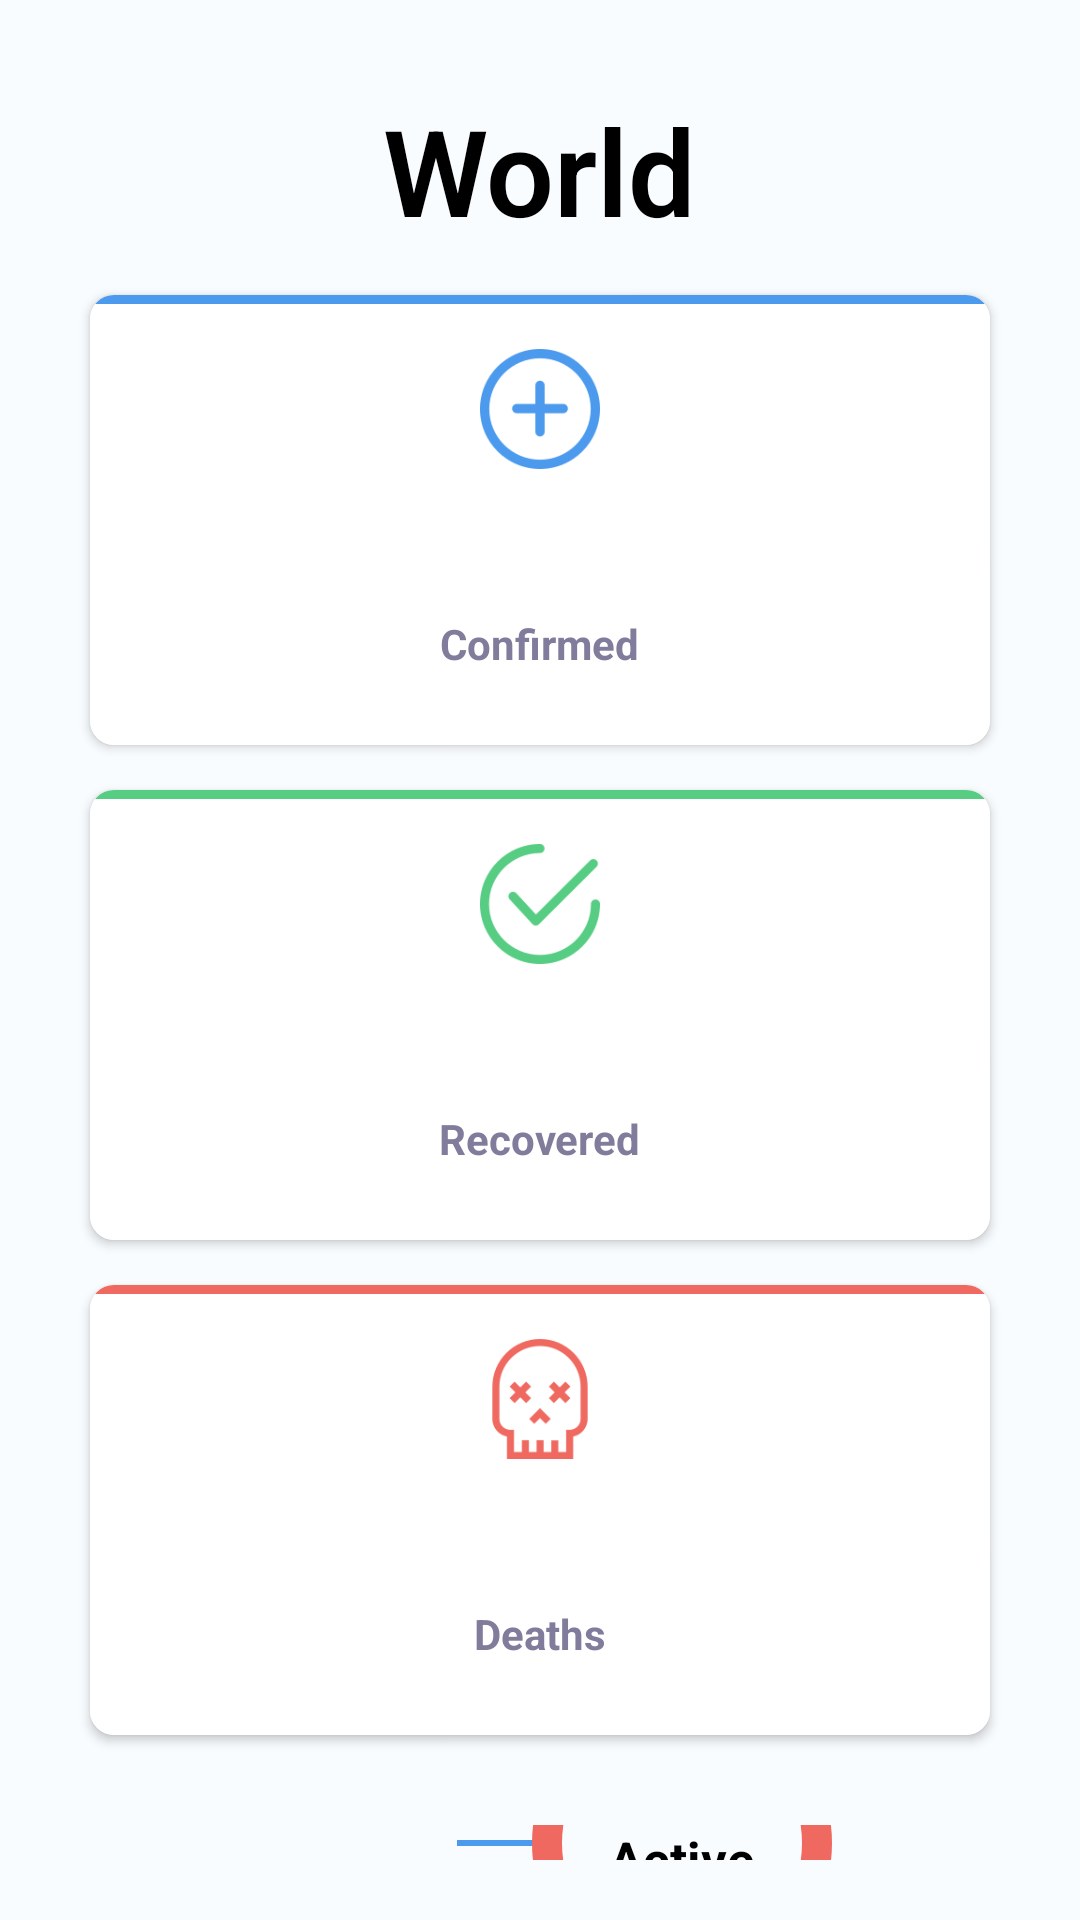

Point at icon controls on the screen. Image size 1080*1920, points as (x,y).
checked: (540,904)
